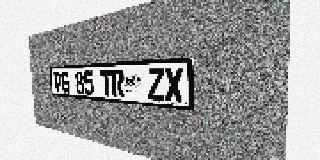5: (83, 71, 94, 95)
8: (75, 71, 84, 94)
G: (61, 72, 70, 93)
P: (54, 72, 62, 92)
R: (112, 70, 125, 98)
T: (100, 70, 112, 97)
X: (164, 68, 184, 103)
Z: (147, 68, 164, 101)
